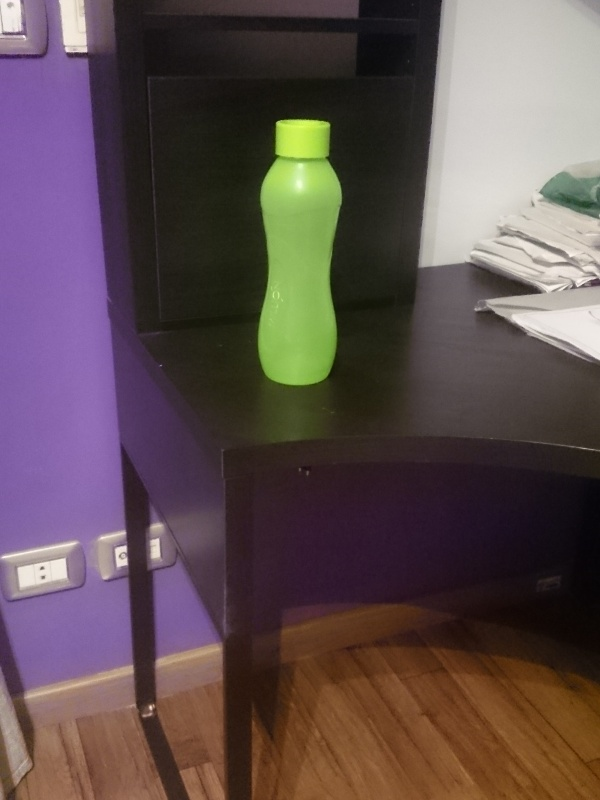my bottle: (256, 118, 341, 386)
